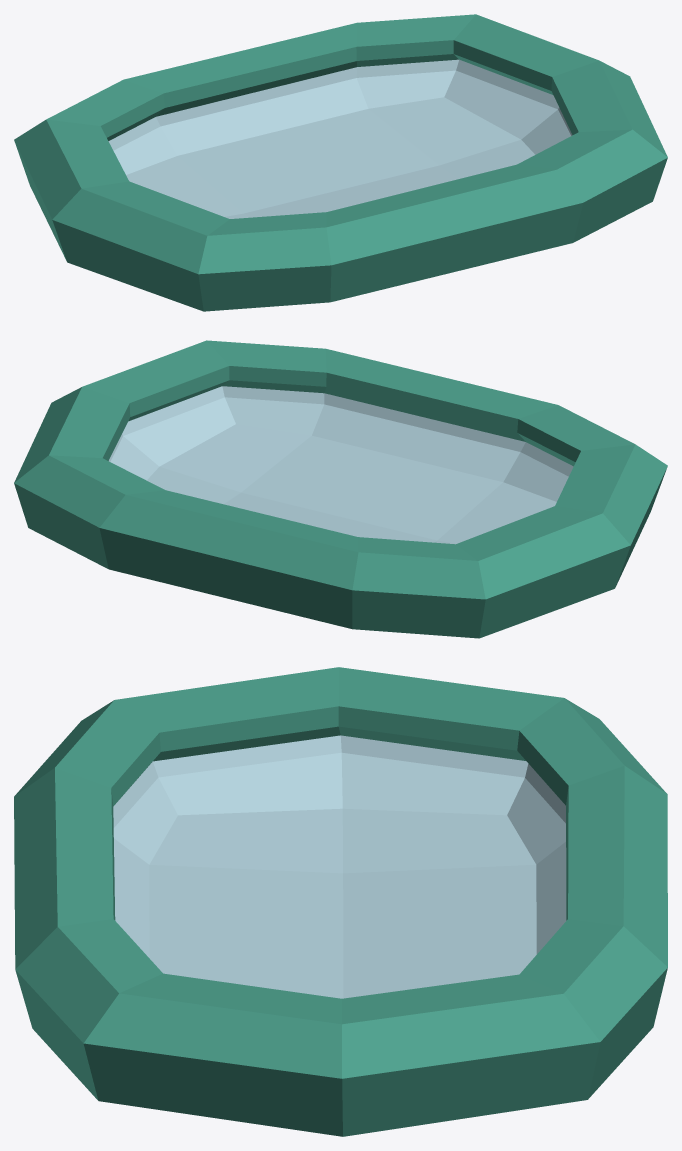
The model's file is DogBed_2.fbx.
3 renders of one model, top to bottom at view 1: azimuth 30°, elevation 25°; view 2: azimuth 150°, elevation 25°; view 3: azimuth 270°, elevation 25°, orthographic. The views are drawn at different scales.
Visible parts, largest first — view 1: DogBed_2; view 2: DogBed_2; view 3: DogBed_2.
Part boxes in pixels (<box>): DogBed_2: <box>14,14,667,311</box>; DogBed_2: <box>14,340,667,638</box>; DogBed_2: <box>14,667,667,1136</box>.
Size of the model in its own units: 133 by 92.08 by 23.45.
